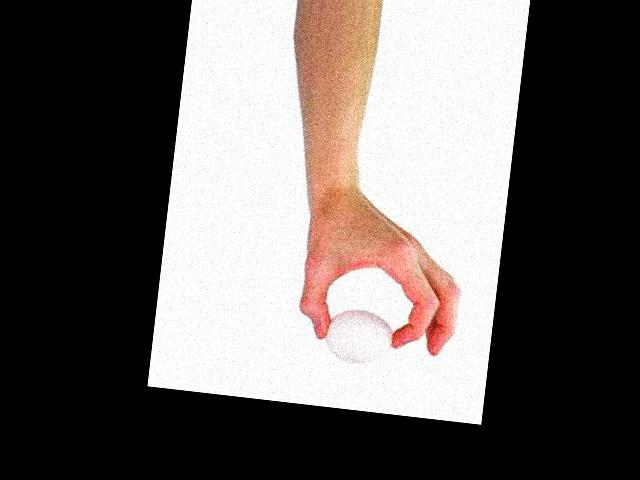egg: (323, 306, 395, 367)
